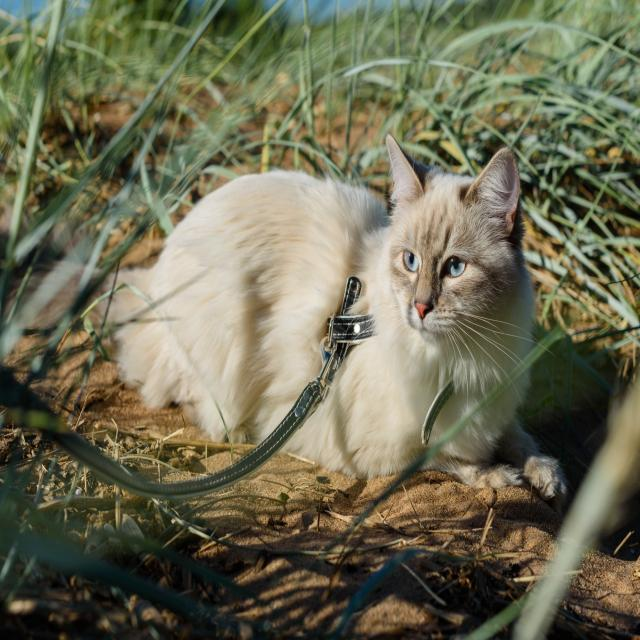Neva Masquerade: (0, 126, 573, 512)
